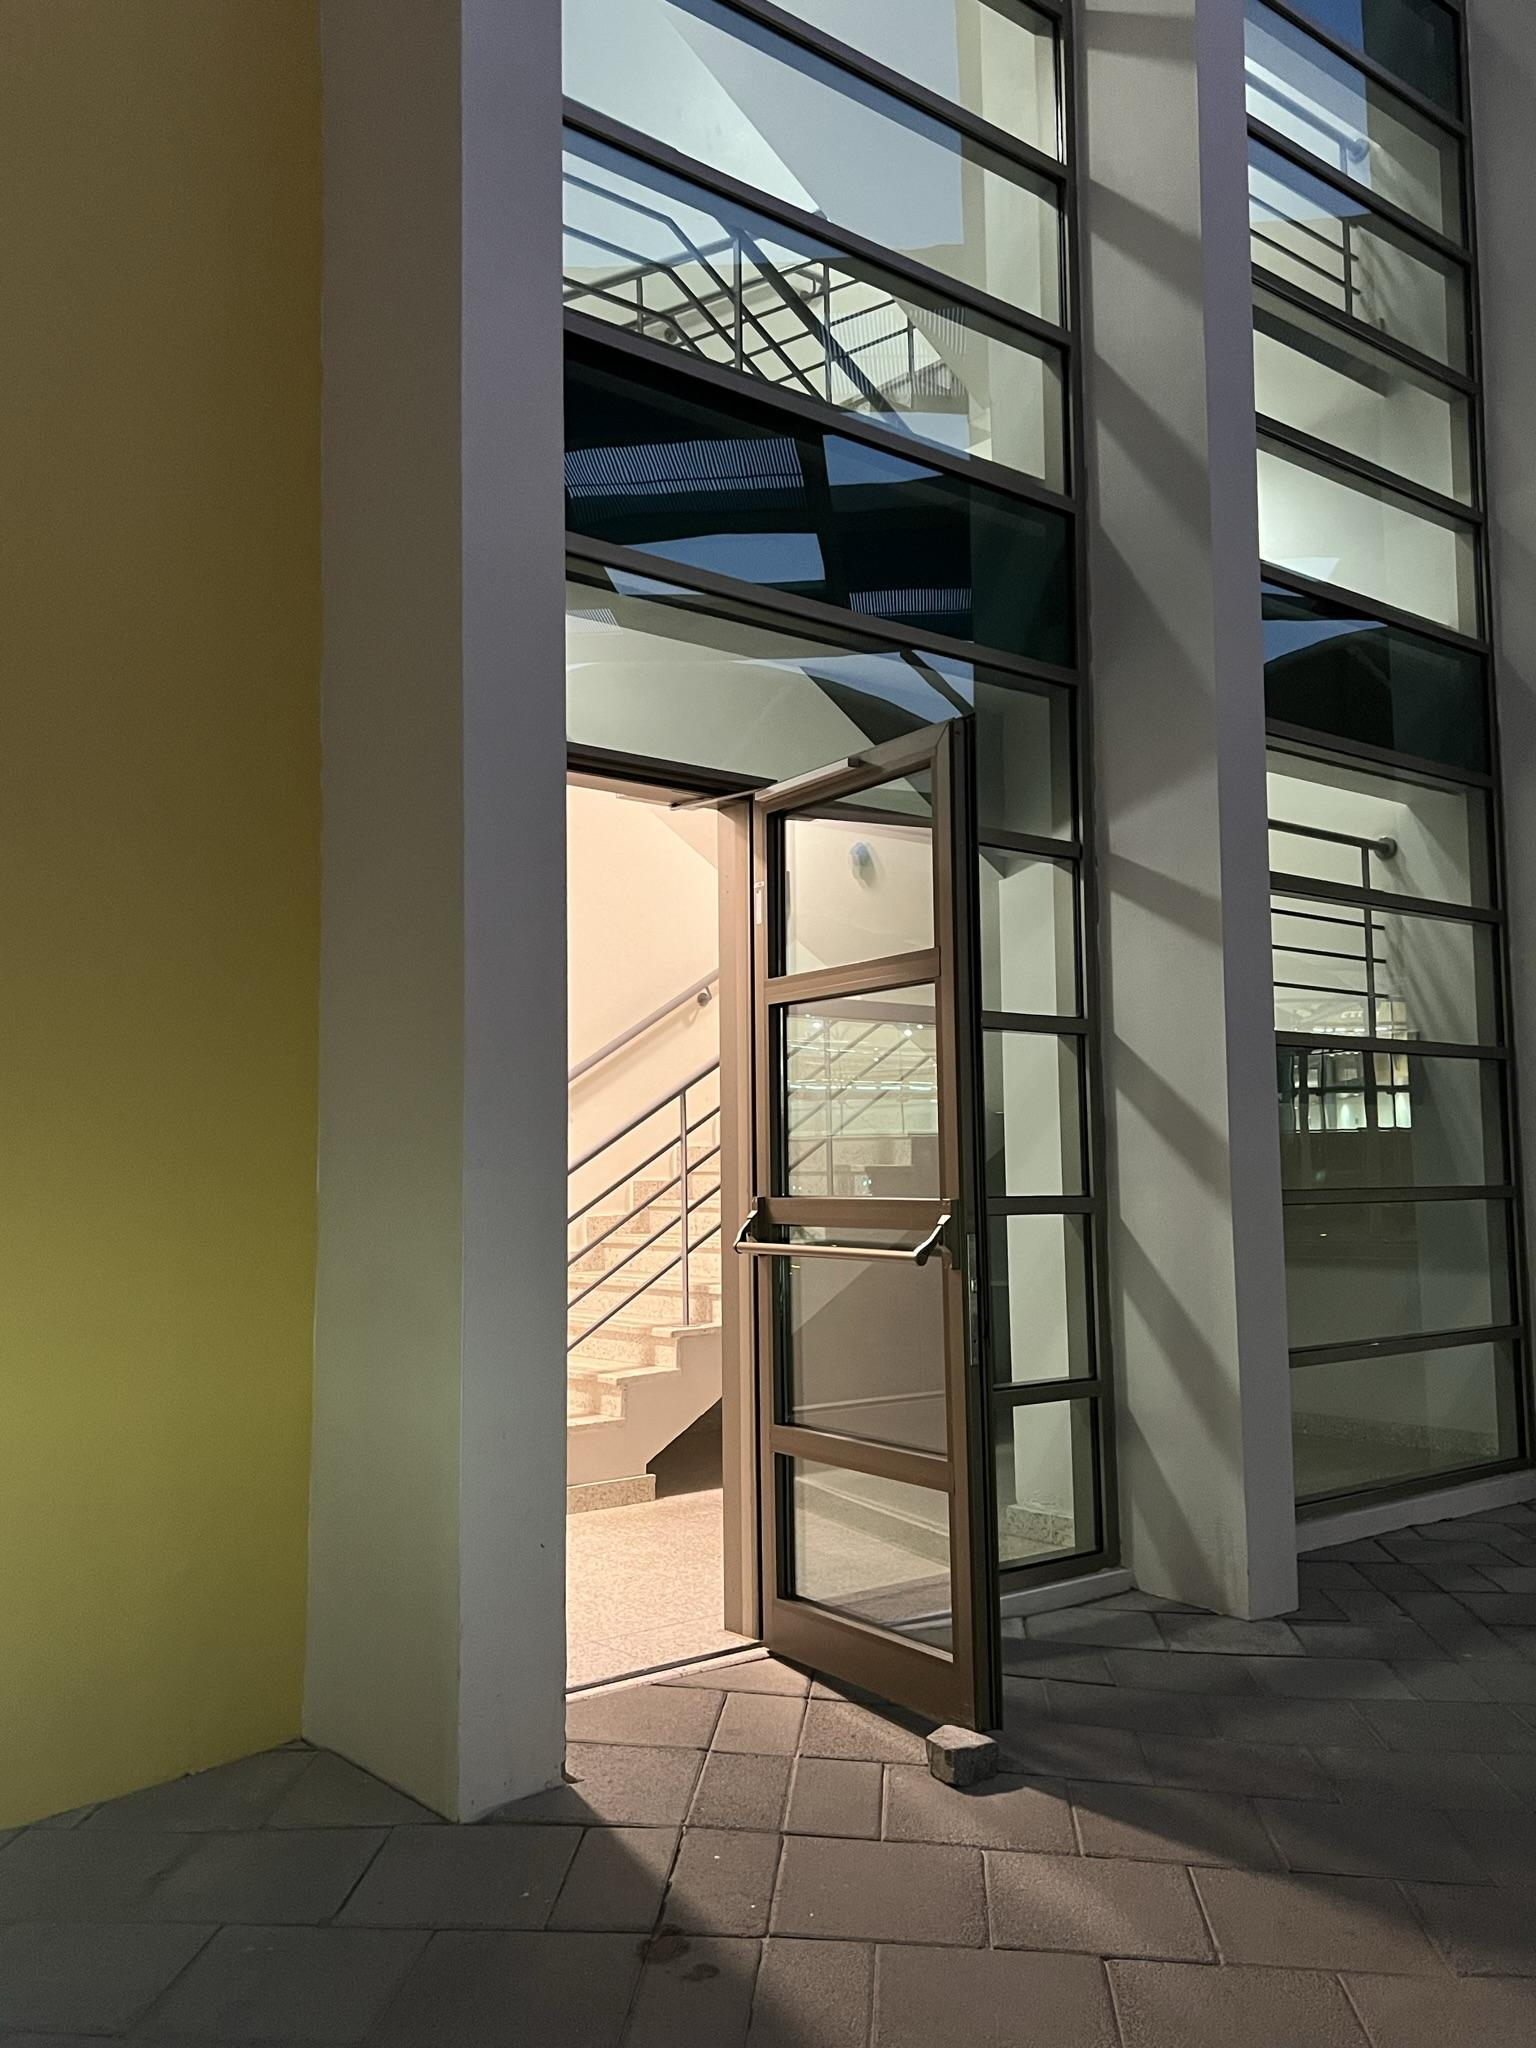door: (747, 742, 981, 1717)
handle: (728, 1201, 965, 1271)
